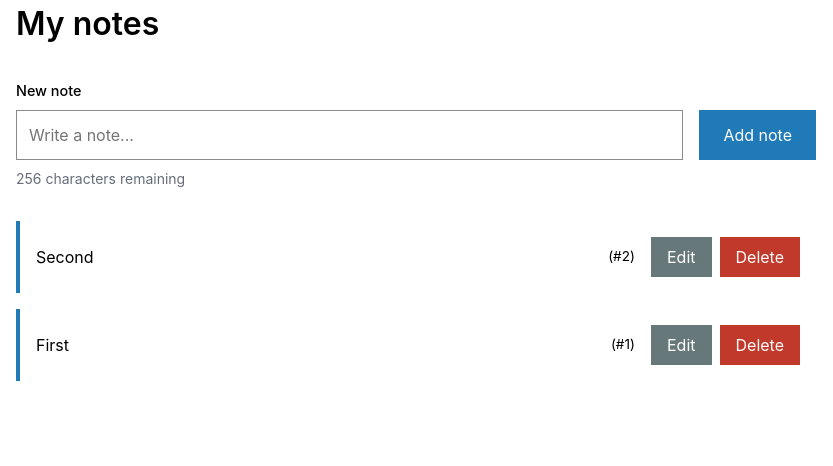
Test case: NotesPage › editing a note › opens the note in place, saves it, and returns focus to Edit
This screenshot has width=833, height=466.
Click the button with aria-label "Edit note #1" at (681, 345), box [651,325,712,365]
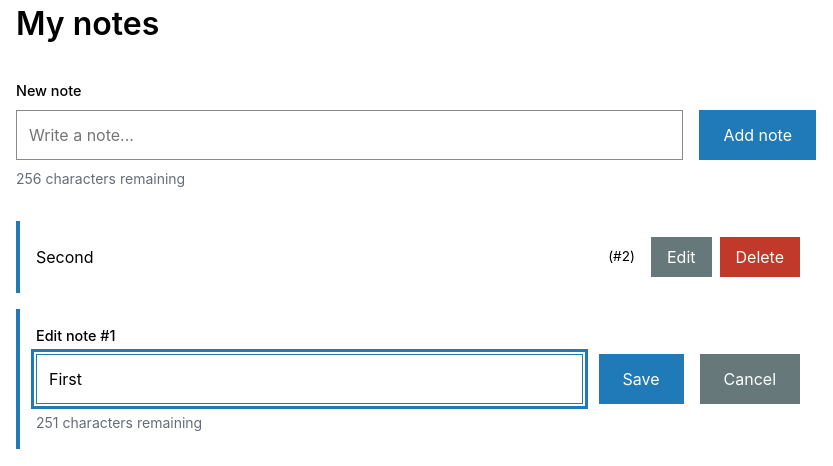
Expected: the field labelled "Edit note #1" holds "First"
Type ", edited " into the field labelled "Edit note #1" at (309, 379), box [36,354,582,404]
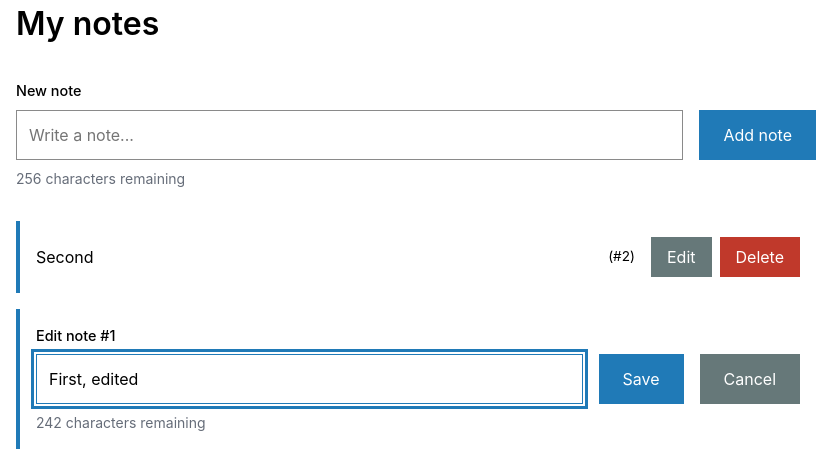
Click the button "Save" at (641, 379), box [598,354,684,404]
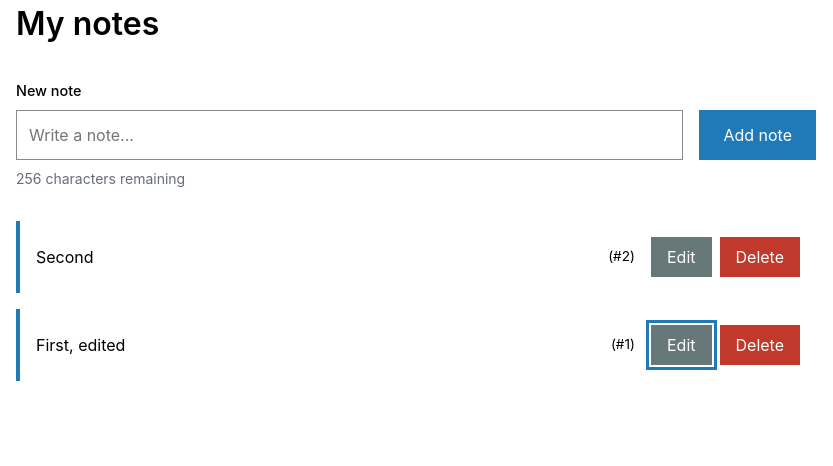
Expected: the text "First, edited" is shown, [36,335,125,355]
Expected: the label "Edit note #1" is gone
